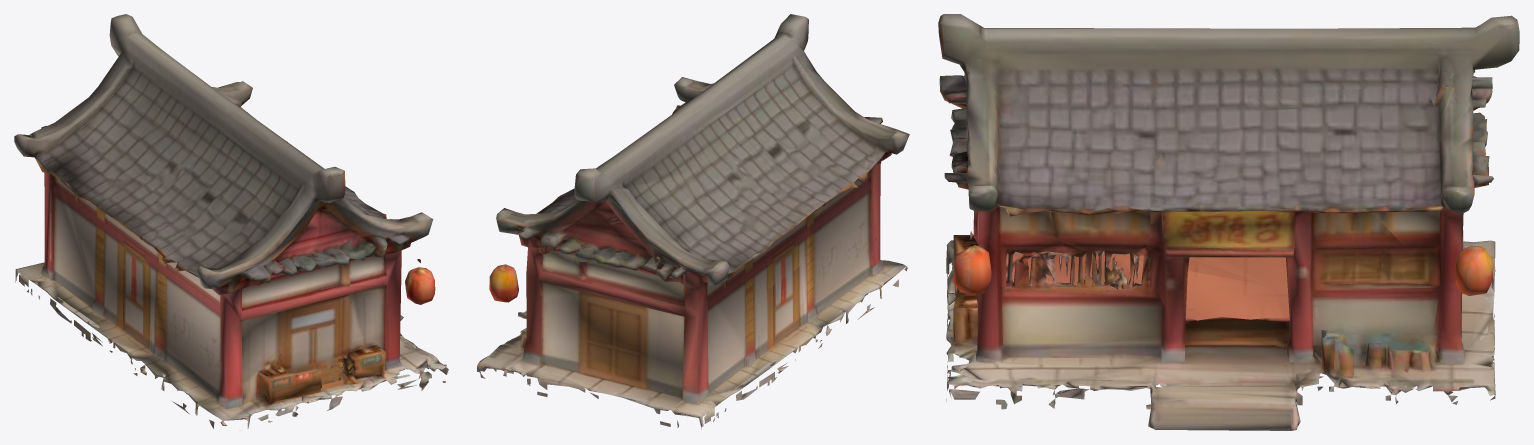
The model's file is bq_teashop.far.glb.
The picture shows the model from 3 angles, left to right: view 1: azimuth 30°, elevation 25°; view 2: azimuth 150°, elevation 25°; view 3: azimuth 270°, elevation 25°; orthographic projection. The views are drawn at different scales.
Size of the model in its own units: 1.42 by 1.2 by 1.99.
Materials: 1 (1 with a texture image).
